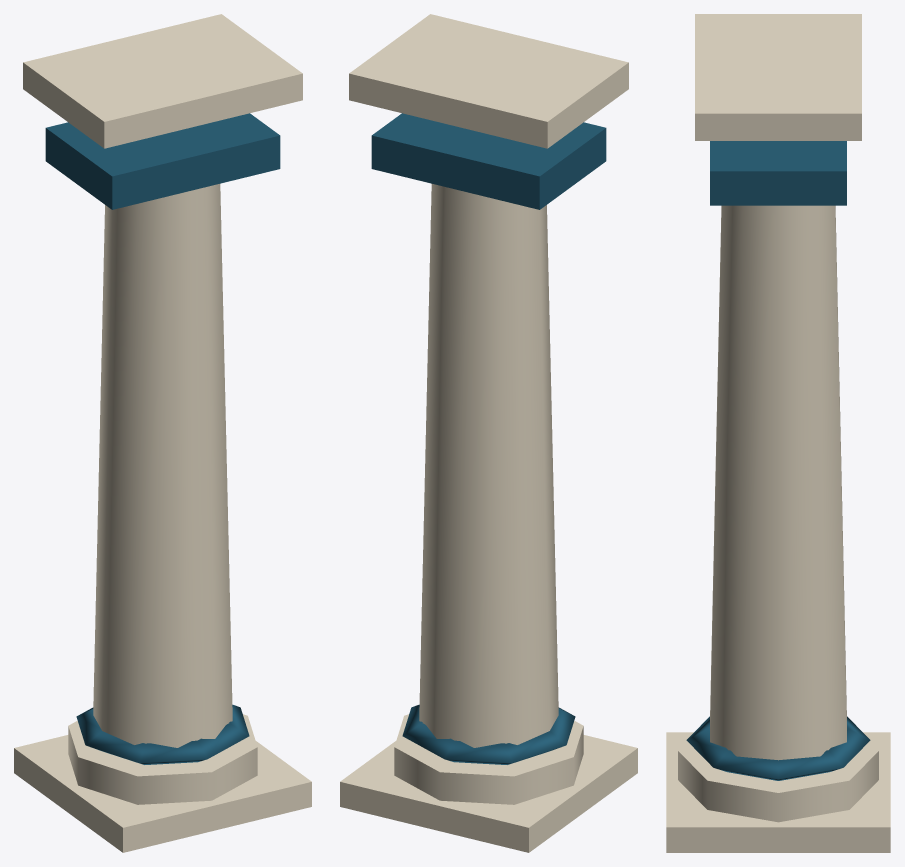
File: column_ionic_aegean_LOD2.glb
The picture shows the model from 3 angles, left to right: view 1: azimuth 30°, elevation 25°; view 2: azimuth 150°, elevation 25°; view 3: azimuth 270°, elevation 25°; orthographic projection. The views are drawn at different scales.
Parts seen in each view (by area): view 1: column_ionic_aegean_LOD2; view 2: column_ionic_aegean_LOD2; view 3: column_ionic_aegean_LOD2.
Boxes of the visible parts, x1,y1,x2,y2 form: column_ionic_aegean_LOD2: (14, 14, 311, 852); column_ionic_aegean_LOD2: (340, 14, 637, 852); column_ionic_aegean_LOD2: (666, 14, 890, 852).
Size of the model in its own units: 1.24 by 4.31 by 1.18.
